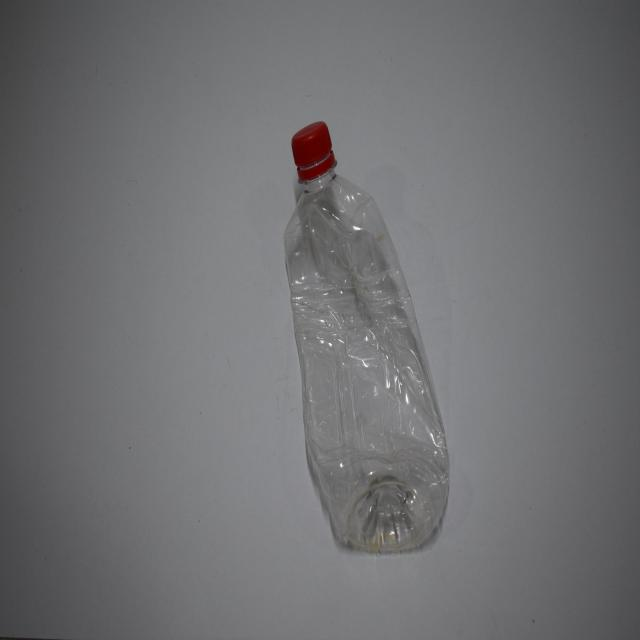bottle: (257, 94, 473, 598)
